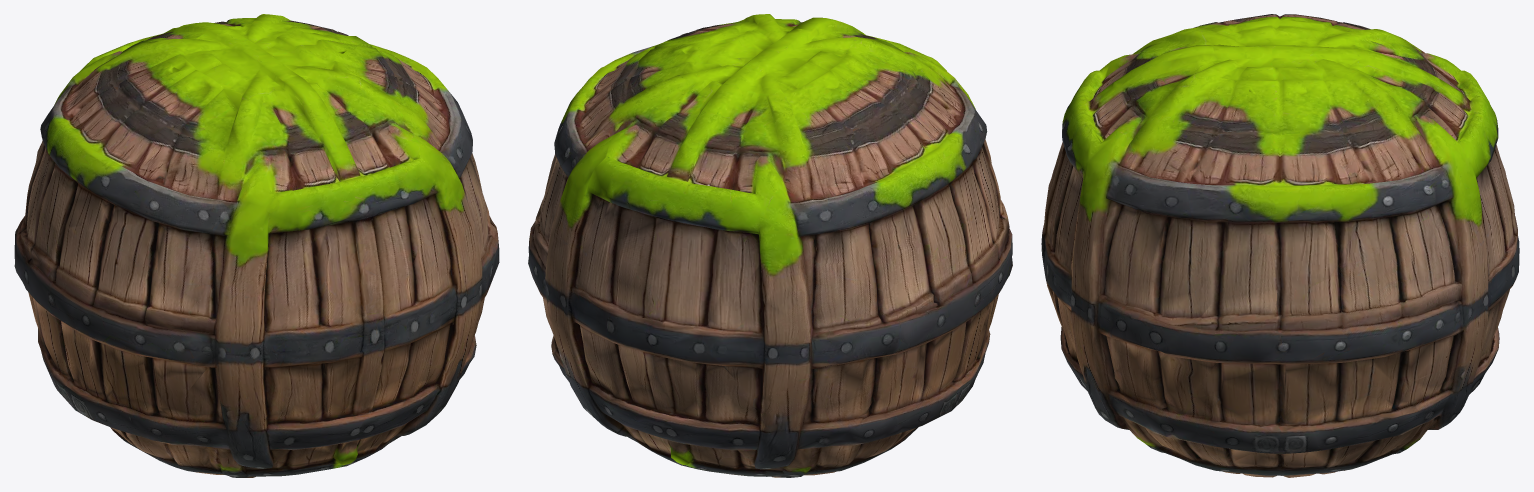
File: prop_barrel.glb
3 renders of one model, left to right at view 1: azimuth 30°, elevation 25°; view 2: azimuth 150°, elevation 25°; view 3: azimuth 270°, elevation 25°, orthographic.
Size of the model in its own units: 1.91 by 1.73 by 1.9.
Materials: 1 (1 with a texture image).
